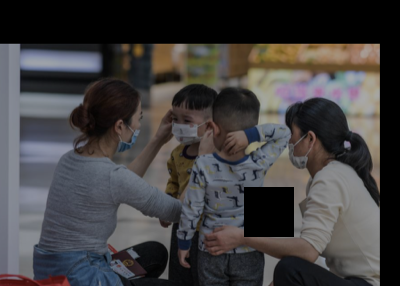with_mask: (170, 110, 204, 144), (121, 109, 143, 154), (287, 125, 308, 170)
